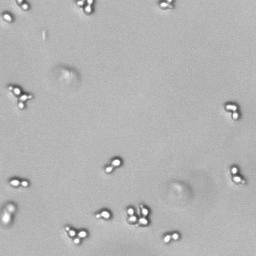budding: (62, 223, 90, 247), (101, 156, 124, 176), (229, 164, 248, 187), (223, 100, 242, 123), (6, 176, 33, 190), (93, 208, 113, 222), (161, 233, 183, 243)
cluster: (5, 83, 37, 114), (125, 201, 152, 229), (74, 1, 97, 18)
individual: (1, 10, 16, 24)
